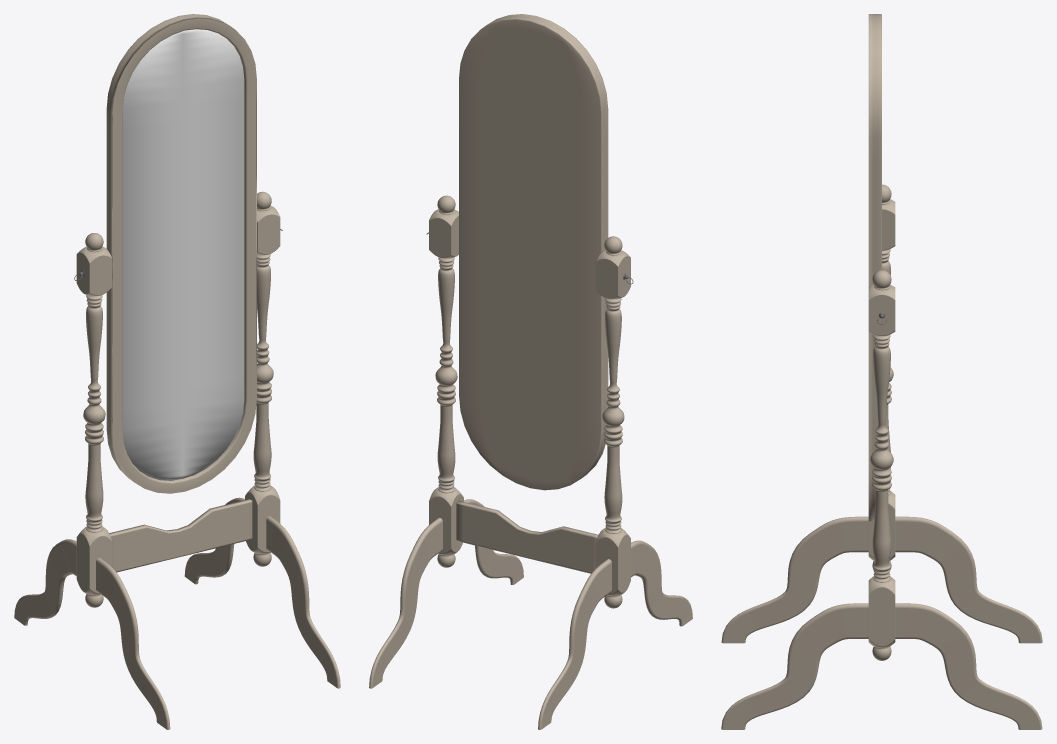
File: speech camera.fbx
3 views of the same model, side by side, from view 1: azimuth 30°, elevation 25°; view 2: azimuth 150°, elevation 25°; view 3: azimuth 270°, elevation 25° (orthographic). The views are drawn at different scales.
Parts seen in each view (by area): view 1: Specchio, Struttura; view 2: Struttura; view 3: Struttura.
Boxes of the visible parts, <box> form: Specchio: <box>122,29,244,480</box>; Struttura: <box>14,14,340,729</box>; Struttura: <box>369,14,692,729</box>; Struttura: <box>721,14,1042,729</box>.
Size of the model in its own units: 55.7 by 164 by 71.86.
